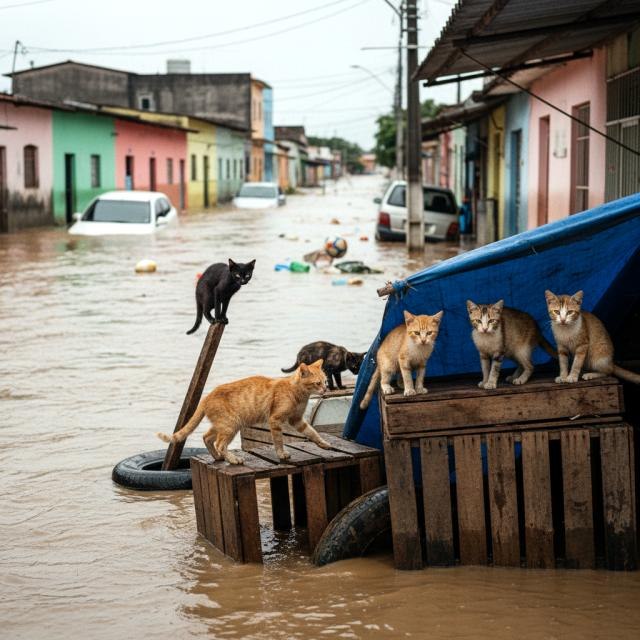cat: (155, 358, 324, 471), (533, 289, 628, 391), (356, 305, 437, 418), (462, 295, 544, 389), (274, 328, 372, 393), (184, 253, 258, 338)
